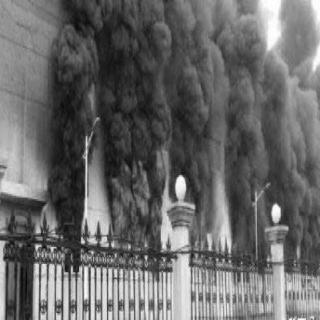Smoke: (50, 19, 92, 229)
